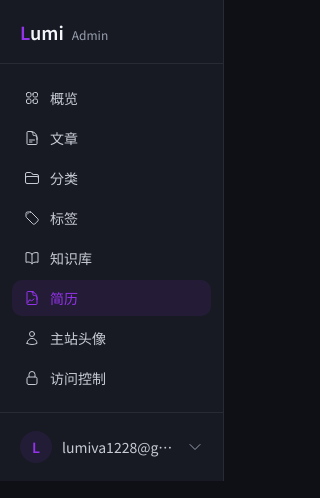
Test case: AdminSidebar › 默认仅展示紧凑账号入口，点击后展开外观和退出操作
Check: the text "外观" is not shown
What coordinates should you click on to do the following:
click the button with aria-label "打开账号菜单"
I would click on:
 (112, 447)
Its box is [12,425,211,469].
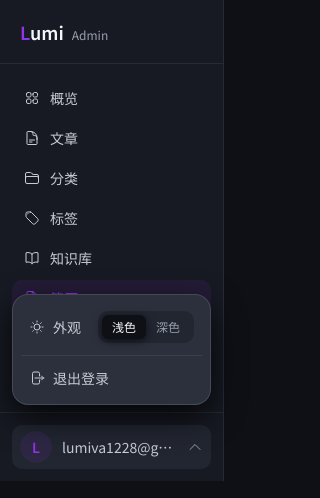
Check: the text "外观" is shown, box [53,317,81,337]
Check: the menu item "退出登录" is shown, box [21,360,202,396]
